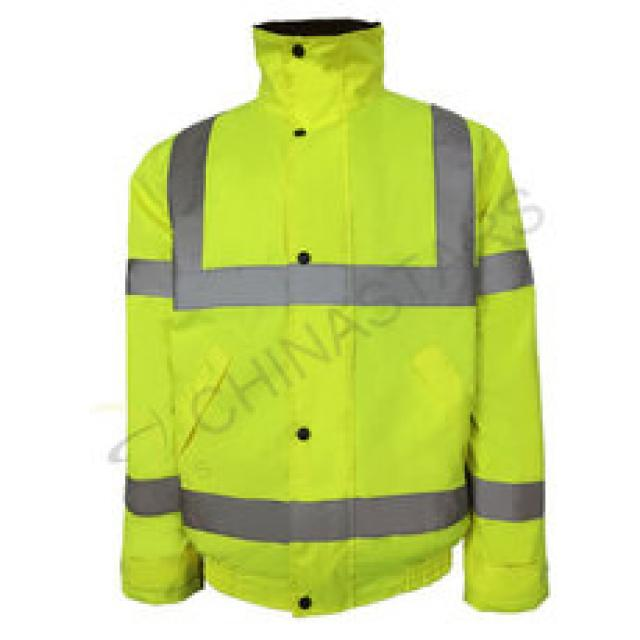Reflective-Jacket: (80, 44, 587, 640)
